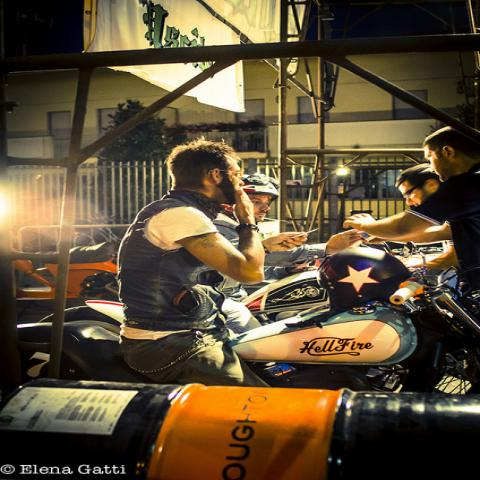motorcycle: (19, 242, 479, 396), (37, 271, 324, 327), (55, 241, 118, 298)
